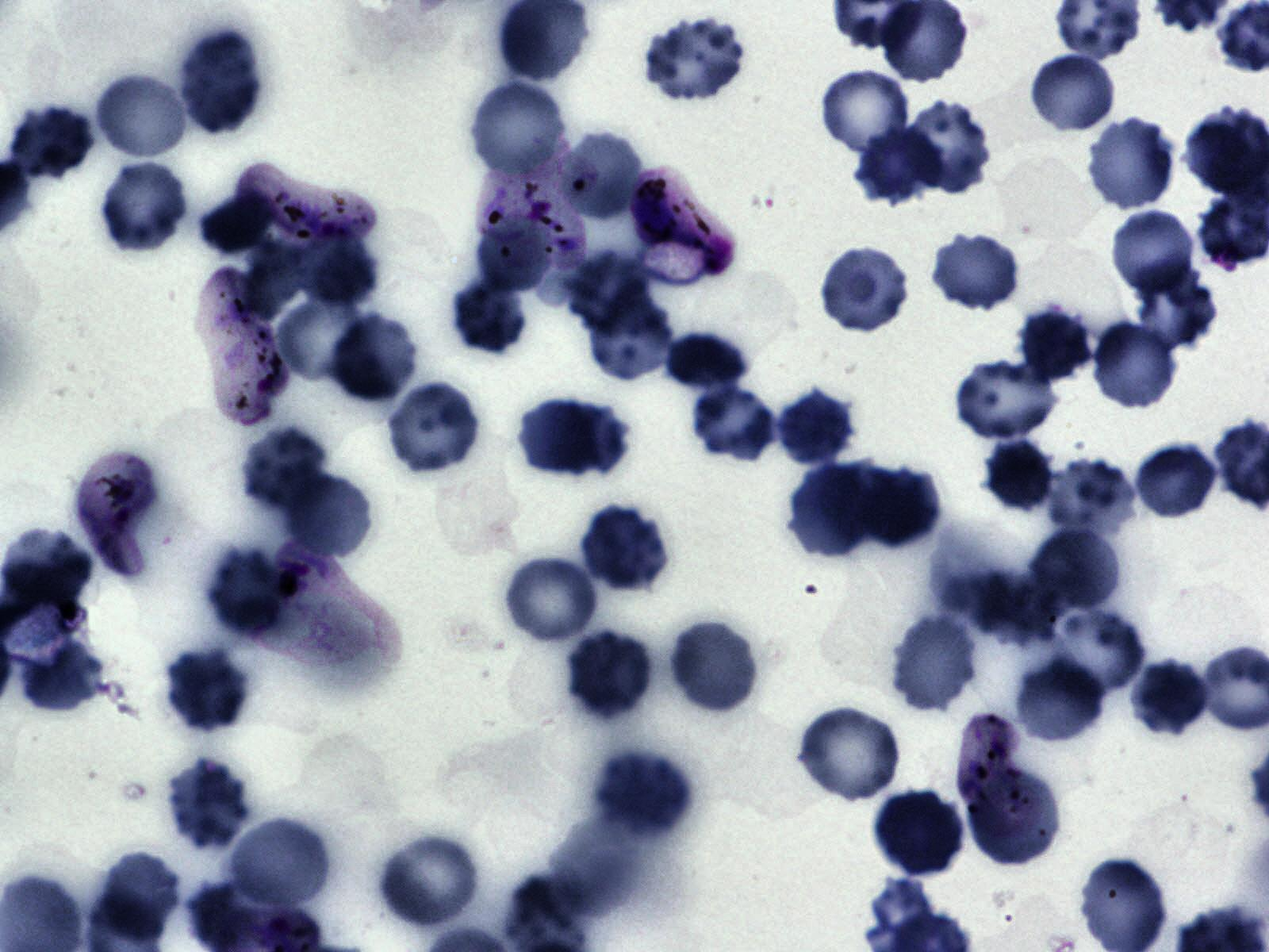Infected: (243, 541, 399, 673), (197, 264, 291, 424), (478, 144, 593, 270), (631, 165, 735, 278), (75, 452, 160, 579), (958, 712, 1039, 838), (237, 165, 378, 236)
Uninfected: (795, 704, 907, 804), (964, 758, 1063, 869), (376, 831, 481, 929), (469, 78, 569, 180), (381, 381, 484, 478), (500, 552, 603, 647), (227, 819, 330, 913), (889, 612, 980, 715), (280, 466, 375, 564), (92, 70, 192, 163), (641, 17, 750, 102), (177, 31, 265, 136), (816, 67, 915, 160), (595, 747, 692, 839), (787, 463, 878, 561), (1084, 117, 1178, 211), (956, 355, 1056, 443), (668, 620, 760, 715), (328, 311, 420, 406), (98, 159, 191, 252), (1011, 658, 1106, 747), (903, 100, 994, 192), (586, 294, 677, 385), (165, 761, 253, 854), (874, 789, 965, 878), (1055, 608, 1147, 696), (238, 426, 331, 513), (818, 248, 912, 334), (561, 129, 646, 224), (1134, 254, 1217, 351), (1089, 324, 1180, 412), (580, 505, 671, 593), (567, 626, 652, 720), (854, 461, 941, 552), (96, 850, 182, 942), (162, 647, 251, 735), (1110, 210, 1197, 300), (294, 221, 382, 309), (1027, 54, 1120, 135), (2, 527, 92, 609), (569, 246, 654, 332), (690, 382, 780, 463), (449, 271, 533, 357), (278, 297, 366, 379), (1045, 460, 1135, 539), (1127, 656, 1212, 739), (1033, 528, 1118, 609), (10, 104, 97, 182), (1133, 444, 1218, 523), (513, 397, 599, 475), (209, 550, 286, 637), (853, 128, 938, 206), (1014, 306, 1095, 386), (934, 232, 1014, 310), (776, 390, 855, 467), (21, 639, 104, 712), (548, 403, 630, 476), (661, 331, 750, 397), (477, 214, 552, 291), (880, 801, 960, 873), (243, 237, 308, 320), (979, 440, 1053, 512), (871, 873, 938, 949), (200, 189, 273, 255)
